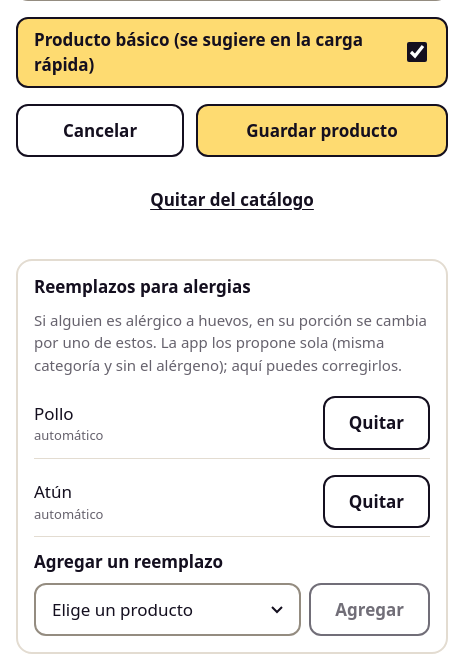
Test: Catálogo del curador (pantallas 43 y 44) › corrige los reemplazos que propone la app para las alergias
(page scrolled)
expect the list named "En uso" shows "Pollo automático": met, box [34, 388, 430, 537]
Click the button with aria-label "Quitar Atún" at [376, 502], box [323, 475, 430, 528]
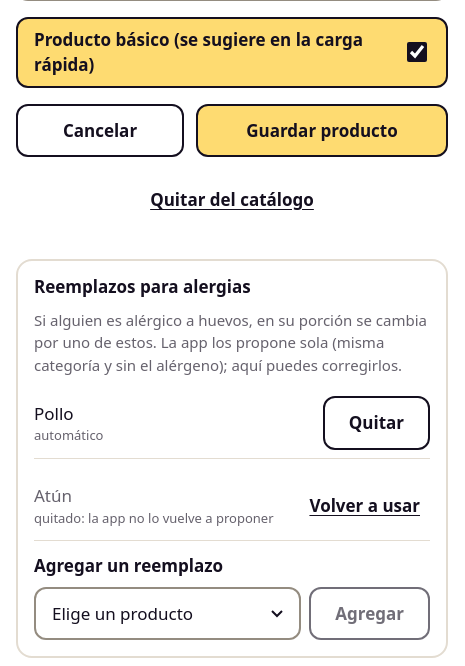
expect the list named "Quitados" shows "Atún": met, box [34, 484, 72, 507]
expect the button with aria-label "Volver a usar Atún" is shown: met, box [299, 479, 430, 532]
Select "Carne de res" in the dropdown labelled "Agregar un reemplazo" at [168, 614], box [34, 587, 301, 640]
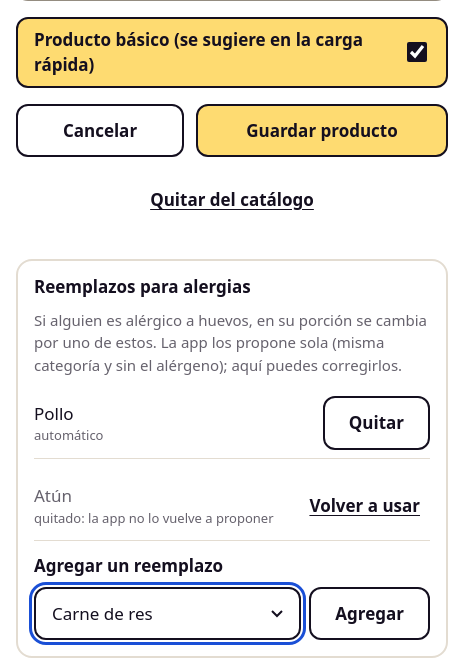
Click the button "Agregar" at [370, 614], box [309, 587, 430, 640]
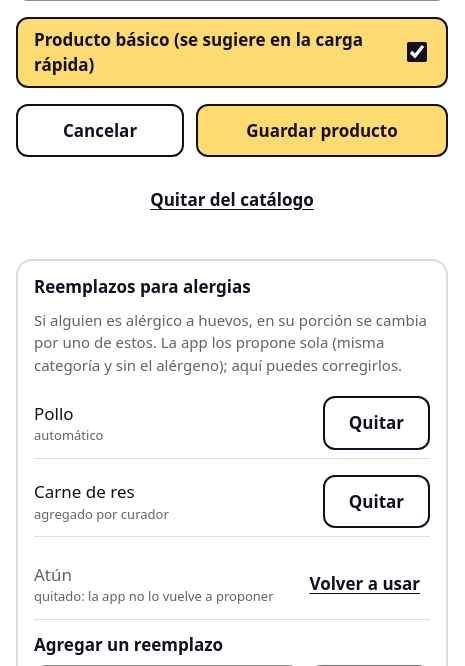
expect the text "agregado por curador" is shown: met, box [34, 505, 169, 524]
